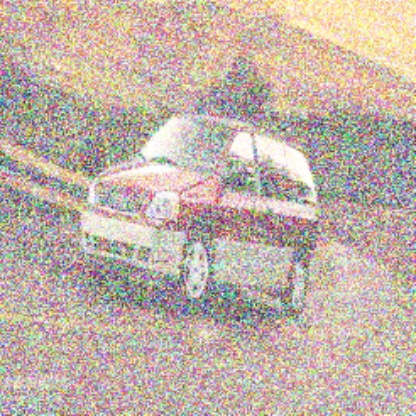Vehicle: (81, 111, 321, 326)
